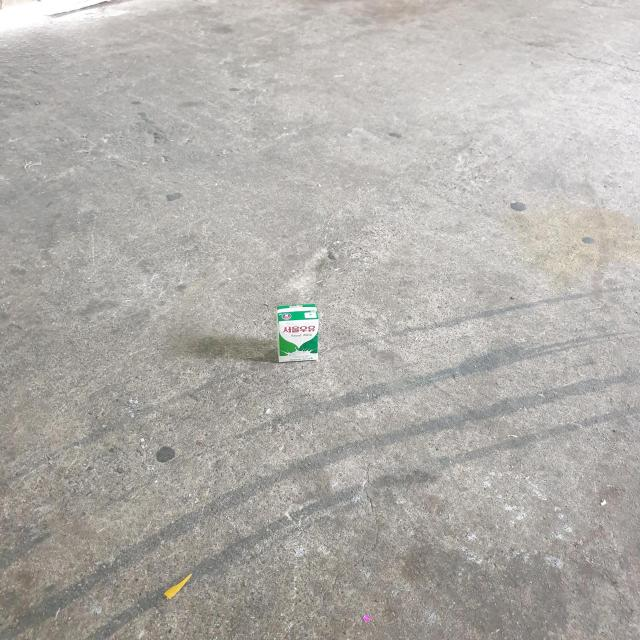paperpack: (276, 304, 319, 362)
